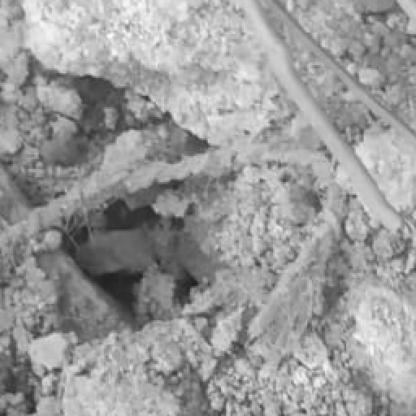cementitious_debris: (1, 3, 414, 413)
